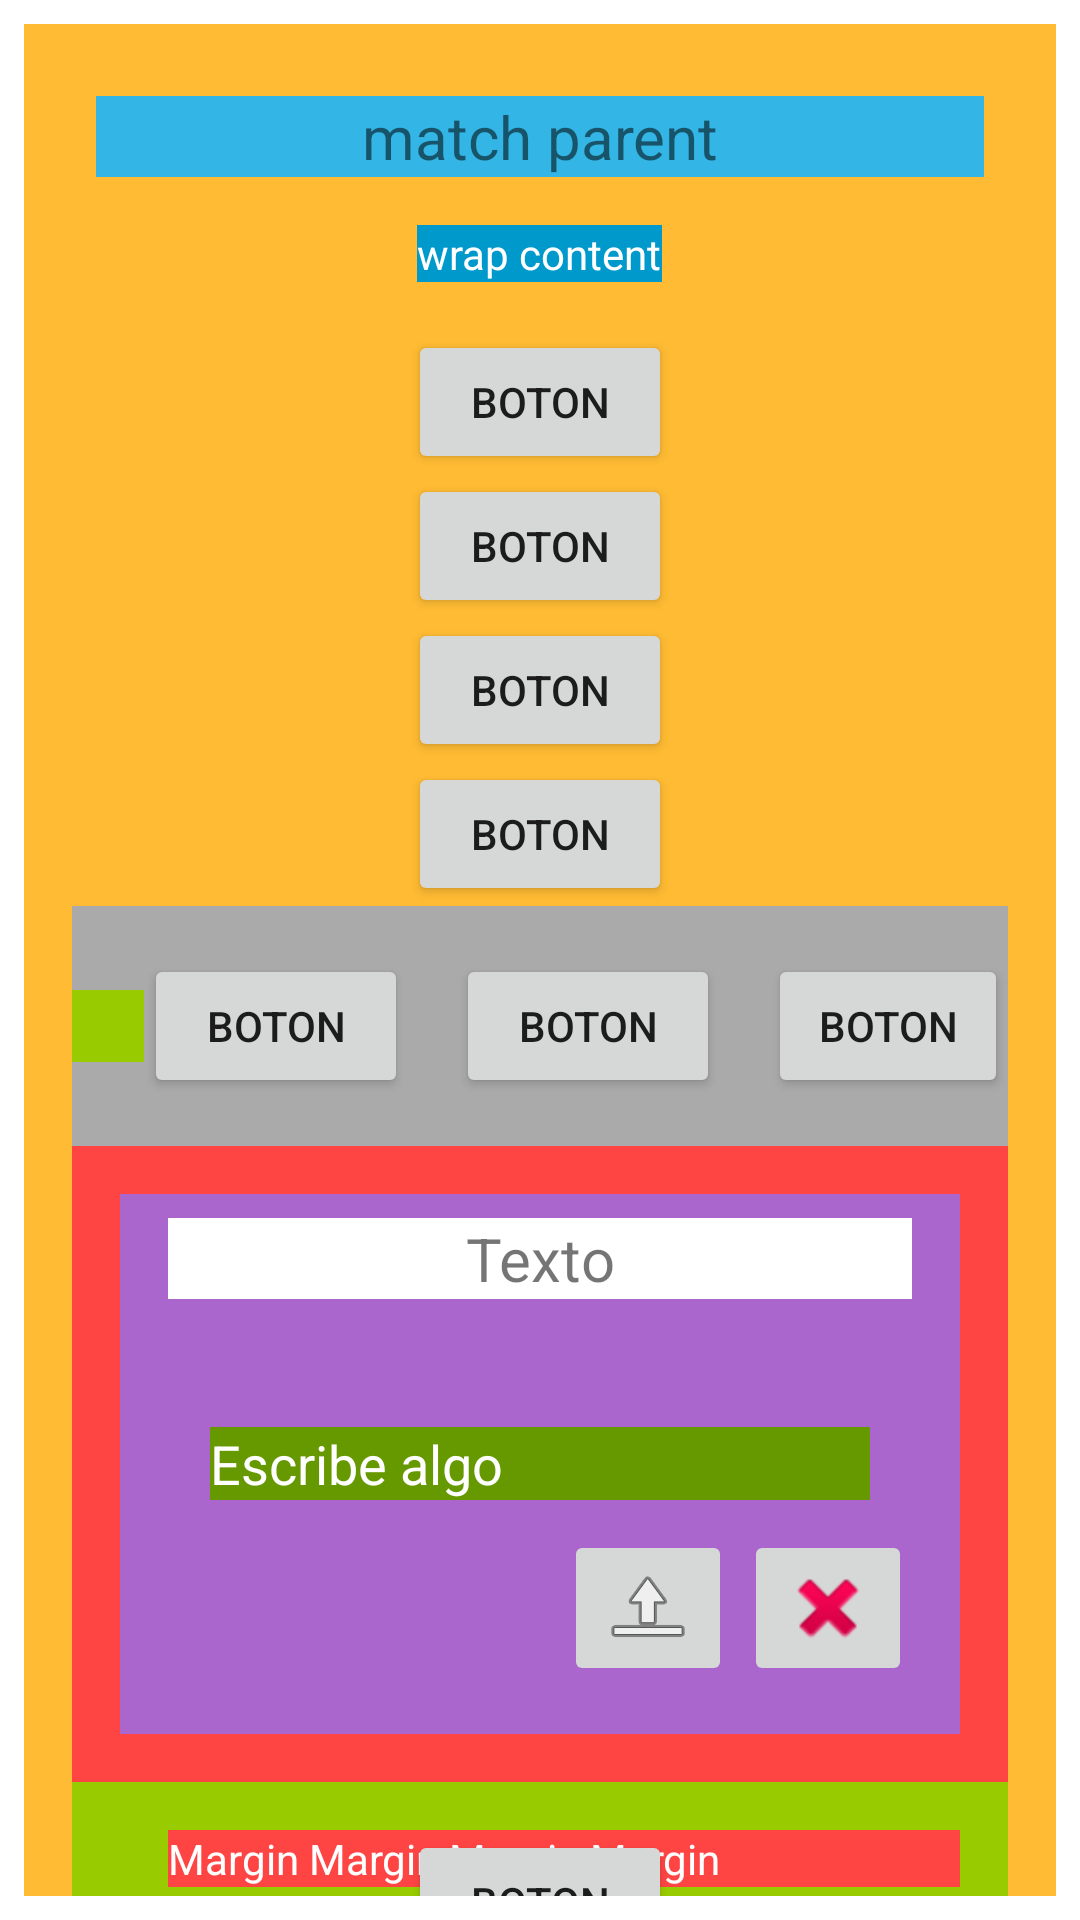

Screen size 1080*1920. Icon name, then its center in pixels as (x=x, y=y):
delete: (x=828, y=1608)
upload: (x=648, y=1608)
